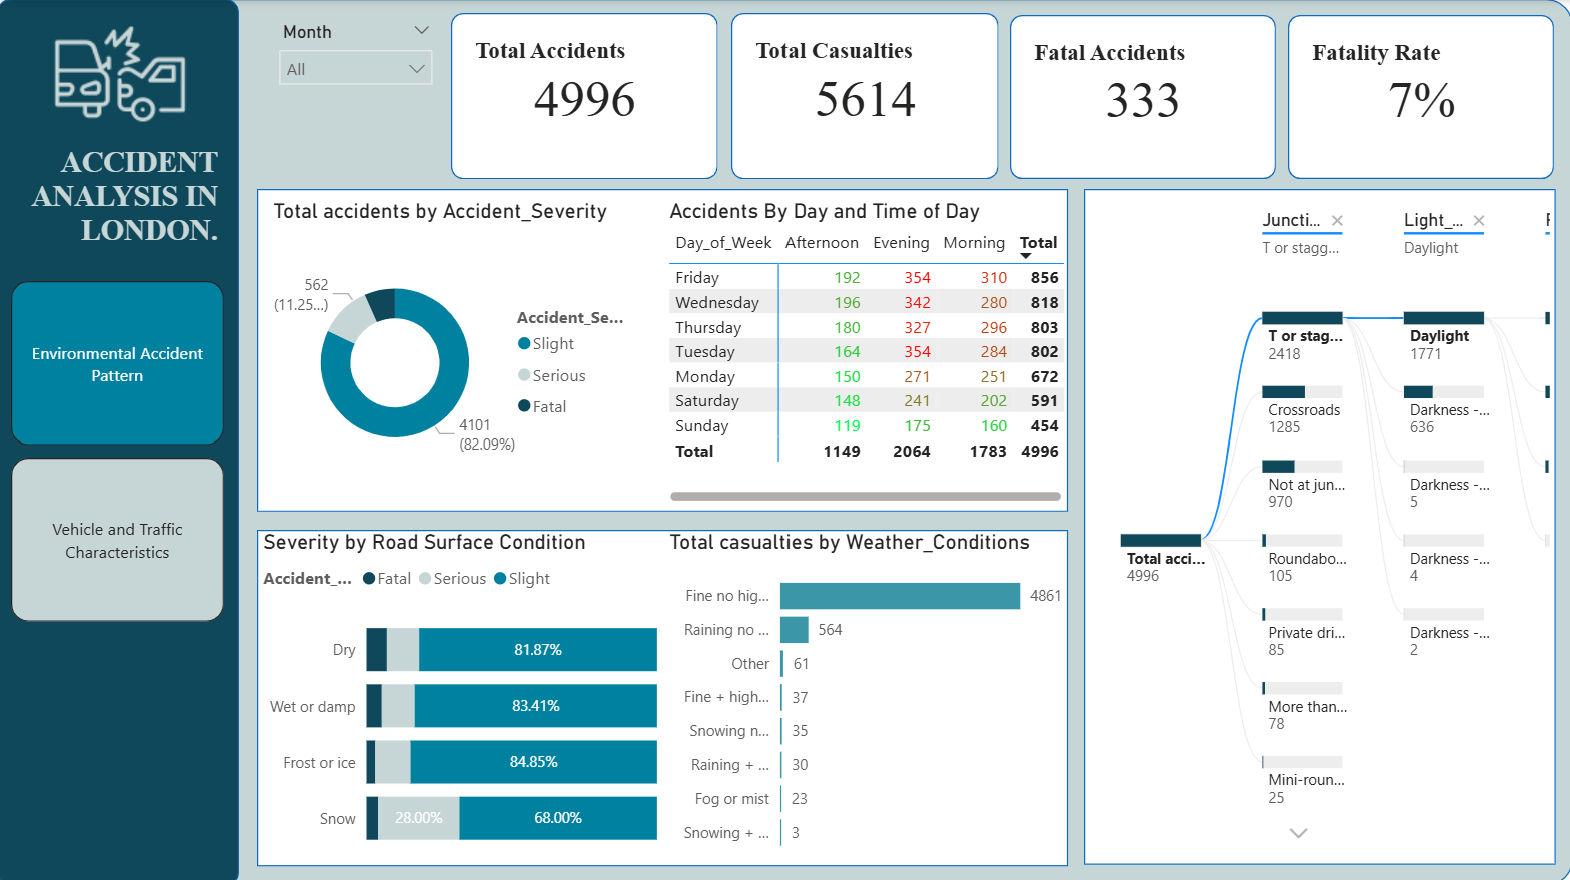

What the dashboard file says about the page in this screenshot:
{"tool":"powerbi","page":{"name":"Environmental  Accident Pattern","canvas":[1280,720],"ordinal":0},"visuals":[{"type":"shape","box":[0,0,1280,720],"z":0},{"type":"shape","box":[0,0,196.7,720],"z":1000},{"type":"shape","box":[369.1,11,216.7,135],"z":2000,"group":"g1"},{"type":"shape","box":[595.8,11,216.7,135],"z":2000,"group":"g2"},{"type":"shape","box":[822.4,13,216.2,133.3],"z":2000,"group":"g3"},{"type":"shape","box":[1048.3,13,216.2,133.3],"z":2000,"group":"g4"},{"type":"shape","box":[211.7,155,658.3,261.7],"z":2000},{"type":"shape","box":[883.3,155,383.3,548.3],"z":3000},{"type":"shape","box":[211.7,430,658.3,273.3],"z":4000},{"type":"group","id":"g1","title":"Group 1","box":[369.1,11,216.7,135],"z":5000},{"type":"group","id":"g2","title":"Group 1","box":[595.8,11,216.7,135],"z":6000},{"type":"group","id":"g3","title":"Group 1","box":[822.4,13,216.2,133.3],"z":7000},{"type":"card","fields":{"Values":["Measure table.Total accidents"]},"box":[384.1,26,188.3,105],"z":7000,"group":"g1"},{"type":"card","fields":{"Values":["Measure table.Total casualties"]},"box":[610.8,26,188.3,105],"z":7000,"group":"g2"},{"type":"card","fields":{"Values":["Measure table.Fatal accidents"]},"box":[837.4,27.8,187.9,103.7],"z":7000,"group":"g3"},{"type":"card","fields":{"Values":["Measure table.Fatality Rate %"]},"box":[1063.3,27.8,187.9,103.7],"z":7000,"group":"g4"},{"type":"group","id":"g4","title":"Group 1","box":[1048.3,13,216.2,133.3],"z":8000},{"type":"textbox","box":[384.1,26,168.3,36.7],"z":8000,"group":"g1"},{"type":"textbox","box":[610.8,26,168.3,36.7],"z":8000,"group":"g2"},{"type":"textbox","box":[837.4,27.8,167.9,36.2],"z":8000,"group":"g3"},{"type":"textbox","box":[1063.3,27.8,167.9,36.2],"z":8000,"group":"g4"},{"type":"textbox","box":[13.3,113.3,171.7,113.3],"z":9000},{"type":"hundredPercentStackedBarChart","title":"Severity by Road Surface Condition","fields":{"Category":["Road Accident Data.Road_Surface_Conditions"],"Series":["Road Accident Data.Accident_Severity"],"Y":["Measure table.Total accidents"]},"box":[211.3,430.7,329.9,276.3],"z":10000},{"type":"decompositionTreeVisual","fields":{"ExplainBy":["Road Accident Data.Junction_Detail","Road Accident Data.Light_Conditions","Road Accident Data.Road_Type"],"Analyze":["Measure table.Total accidents"]},"box":[882.5,154.4,383.6,547.7],"z":11000},{"type":"donutChart","fields":{"Y":["Measure table.Total accidents"],"Category":["Road Accident Data.Accident_Severity"]},"box":[219.4,162.5,303.9,247],"z":12000},{"type":"clusteredBarChart","fields":{"Category":["Road Accident Data.Weather_Conditions"],"Y":["Measure table.Total casualties"]},"box":[541.2,430.7,329.9,273],"z":13000},{"type":"pivotTable","title":"Accidents By Day and Time of Day","fields":{"Rows":["Road Accident Data.Day_of_Week"],"Columns":["Road Accident Data.Time of Day"],"Values":["CountNonNull(Road Accident Data.Accident_Index)"]},"box":[541.2,162.5,329.9,250.3],"z":14000},{"type":"pageNavigator","box":[11.4,229.2,173.9,276.3],"z":15000},{"type":"image","box":[39,0,121.9,121.9],"z":16000},{"type":"slicer","fields":{"Values":["Road Accident Data.Accident Date.Variation.Date Hierarchy.Month"]},"box":[219.4,13,144.7,74.8],"z":17000}]}

Visuals, with their boxes in screenshot pixels (x1, y1, x2, y2), scaled from the page's 1280x720 canvas onto the 1570x880 screenshot:
shape: locate(0, 0, 1569, 879)
shape: locate(0, 0, 241, 879)
shape: locate(453, 13, 719, 178)
shape: locate(731, 13, 997, 178)
shape: locate(1009, 16, 1274, 179)
shape: locate(1286, 16, 1551, 179)
shape: locate(260, 189, 1067, 509)
shape: locate(1083, 189, 1554, 860)
shape: locate(260, 526, 1067, 860)
"Group 1" group: locate(453, 13, 719, 178)
"Group 1" group: locate(731, 13, 997, 178)
"Group 1" group: locate(1009, 16, 1274, 179)
card - Measure table.Total accidents: locate(471, 32, 702, 160)
card - Measure table.Total casualties: locate(749, 32, 980, 160)
card - Measure table.Fatal accidents: locate(1027, 34, 1258, 161)
card - Measure table.Fatality Rate %: locate(1304, 34, 1535, 161)
"Group 1" group: locate(1286, 16, 1551, 179)
textbox: locate(471, 32, 678, 77)
textbox: locate(749, 32, 956, 77)
textbox: locate(1027, 34, 1233, 78)
textbox: locate(1304, 34, 1510, 78)
textbox: locate(16, 138, 227, 277)
"Severity by Road Surface Condition" hundredPercentStackedBarChart: locate(259, 526, 664, 864)
decompositionTreeVisual - Road Accident Data.Junction_Detail x Road Accident Data.Light_Conditions: locate(1082, 189, 1553, 858)
donutChart - Measure table.Total accidents x Road Accident Data.Accident_Severity: locate(269, 199, 642, 501)
clusteredBarChart - Road Accident Data.Weather_Conditions x Measure table.Total casualties: locate(664, 526, 1068, 860)
"Accidents By Day and Time of Day" pivotTable: locate(664, 199, 1068, 505)
pageNavigator: locate(14, 280, 227, 618)
image: locate(48, 0, 197, 149)
slicer - Road Accident Data.Accident Date.Variation.Date Hierarchy.Month: locate(269, 16, 447, 107)
